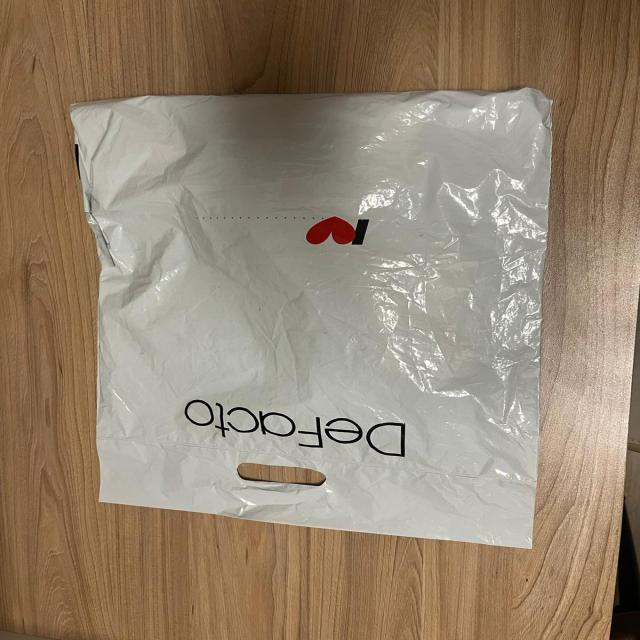good_package: (65, 88, 550, 552)
